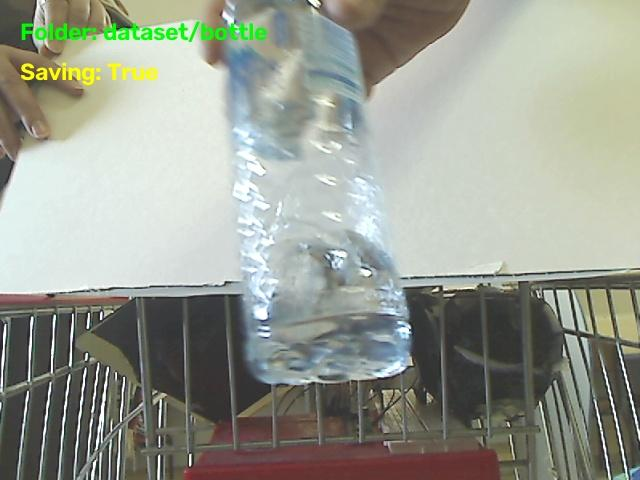Bottle: (227, 0, 410, 383)
